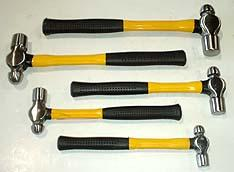hammer: (4, 30, 187, 86), (40, 2, 222, 57), (69, 64, 227, 116), (27, 85, 182, 135), (56, 122, 210, 168)
